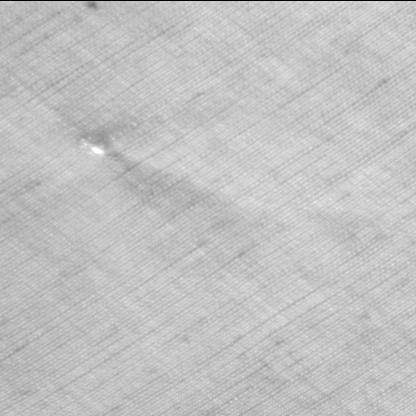hole: (78, 134, 114, 158)
